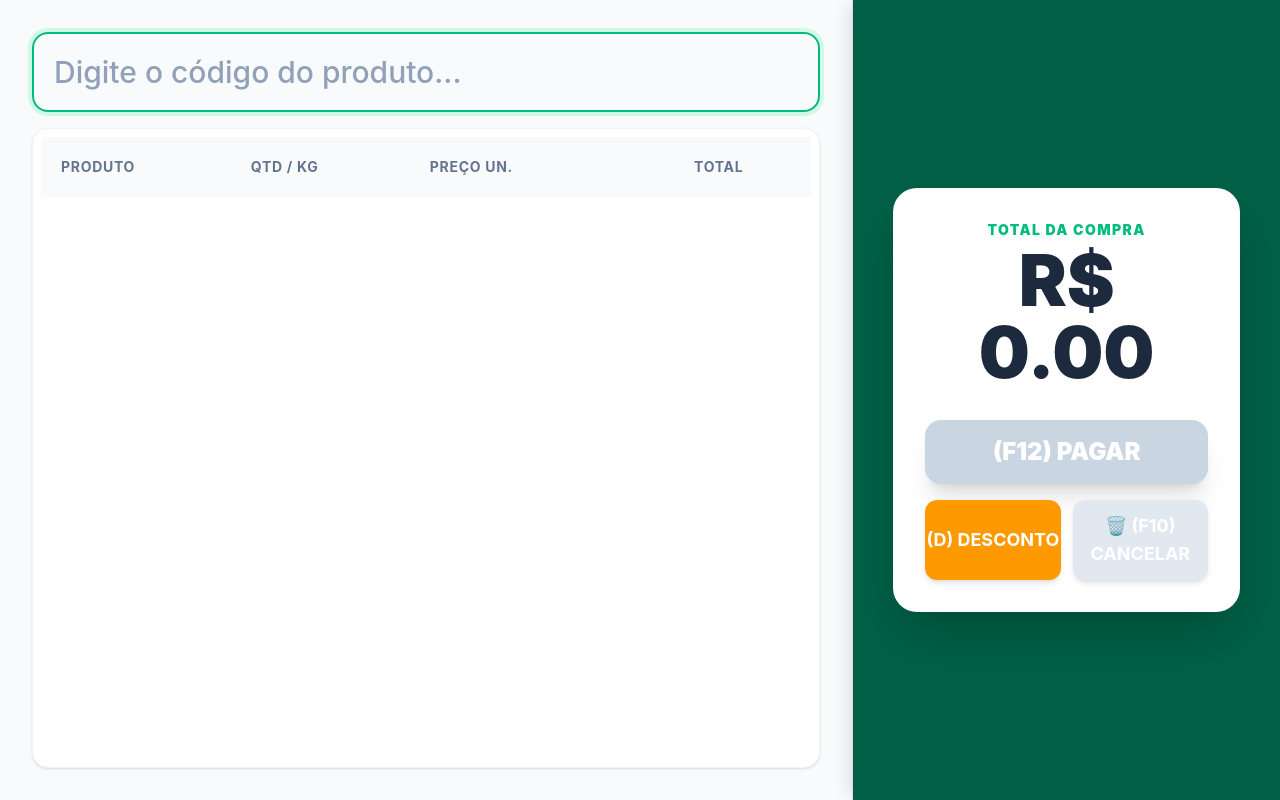
Scenario: Caixa Page › deve realizar fluxo de pagamento com troco
// Adiciona produto
In the field with placeholder "Digite o código do produto...": (426, 72) x1=32 y1=32 x2=820 y2=112, type "123"
Then press Enter
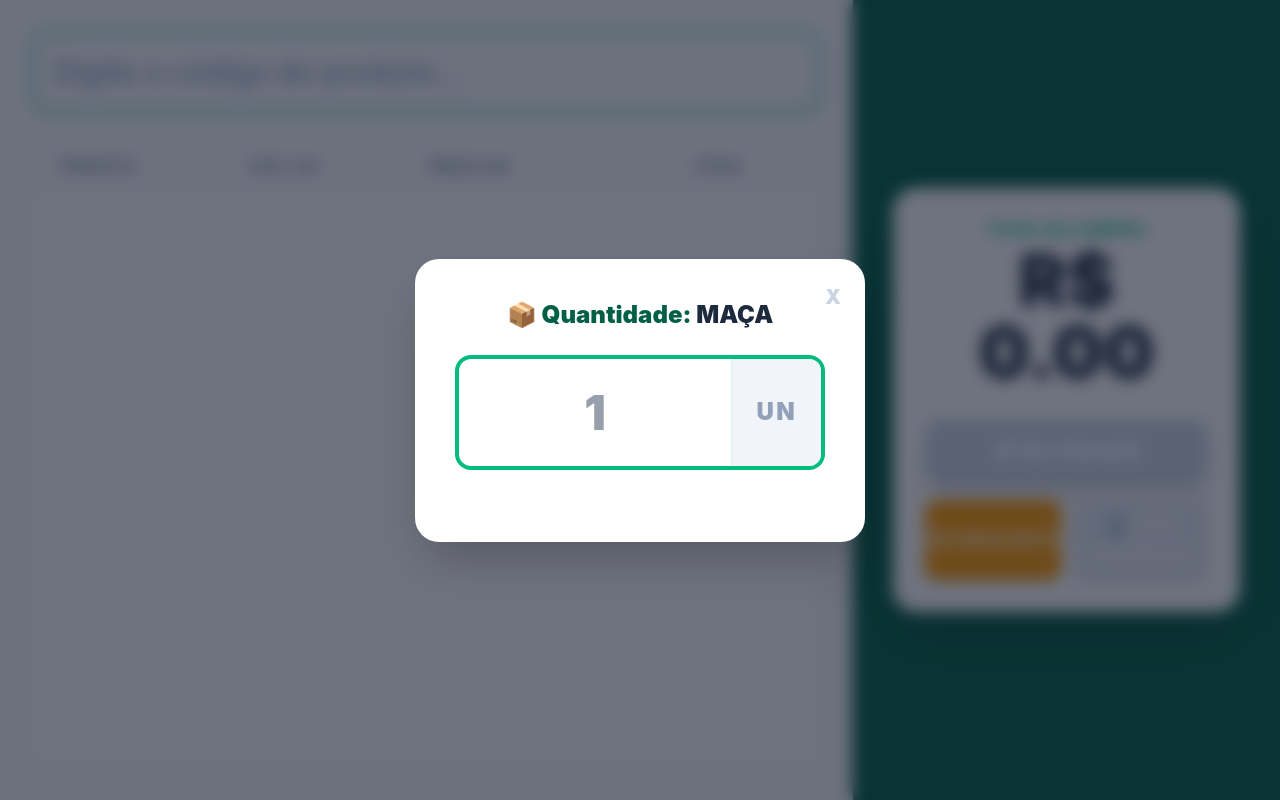
Type keys "1{Enter}"
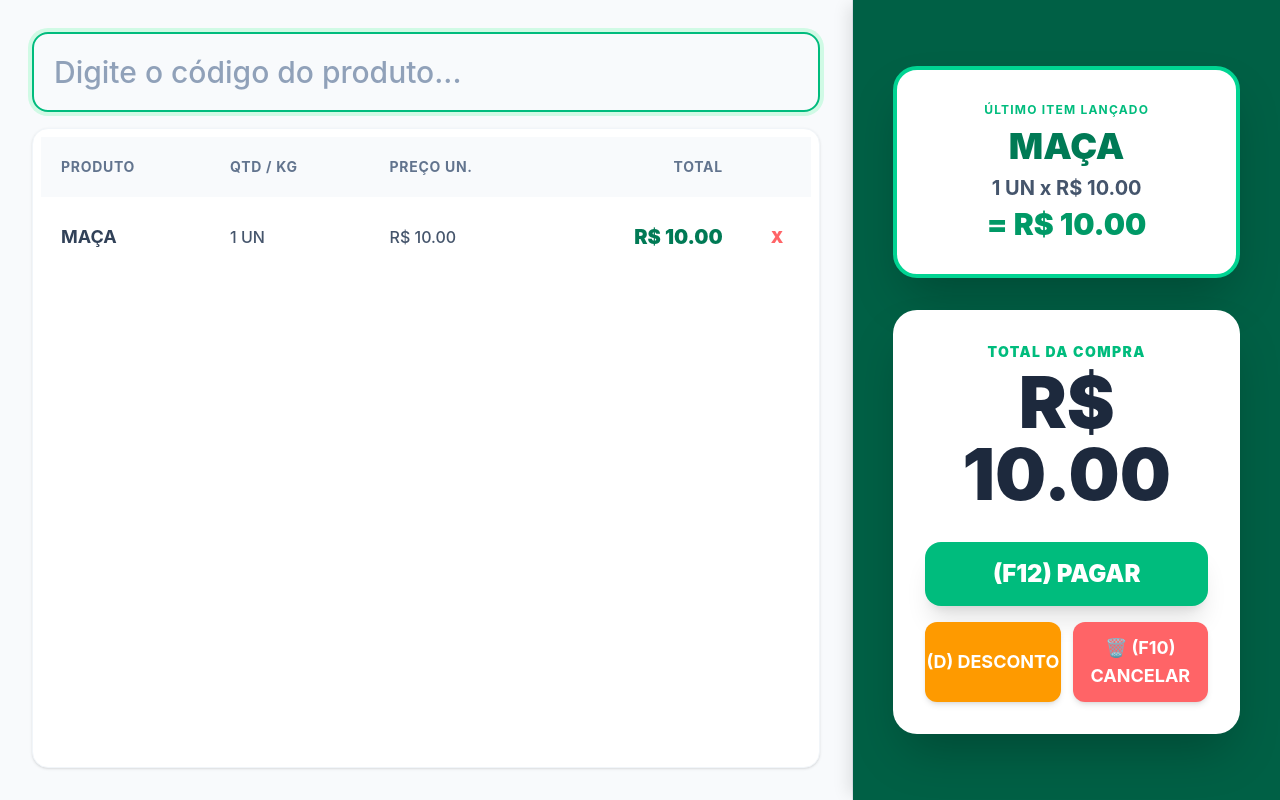
// Pagar - Clica no botão (F12) PAGAR
Click the button "(F12) PAGAR": (1067, 574) x1=925 y1=542 x2=1208 y2=606
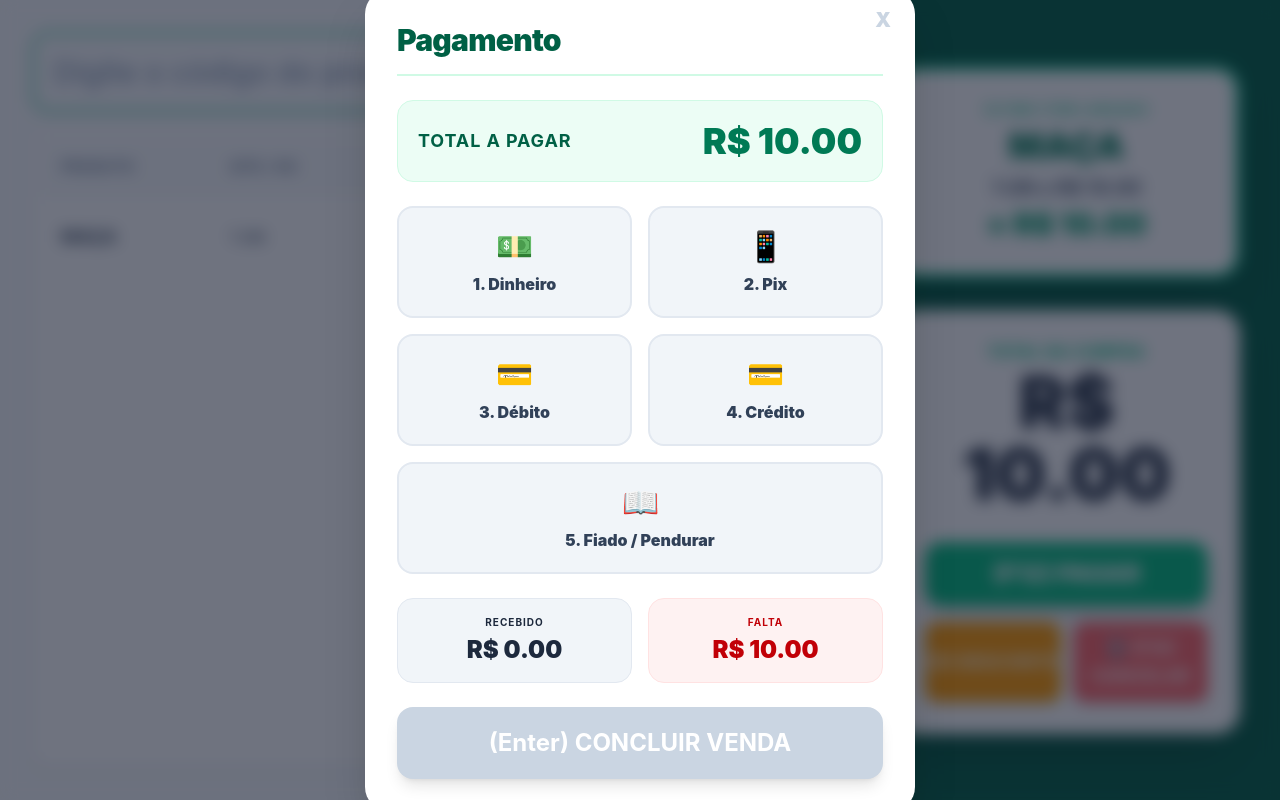
Expected: the button "(Enter) CONCLUIR VENDA" is shown, x1=397 y1=706 x2=883 y2=778
// Seleciona Dinheiro (1)
Type keys "1"
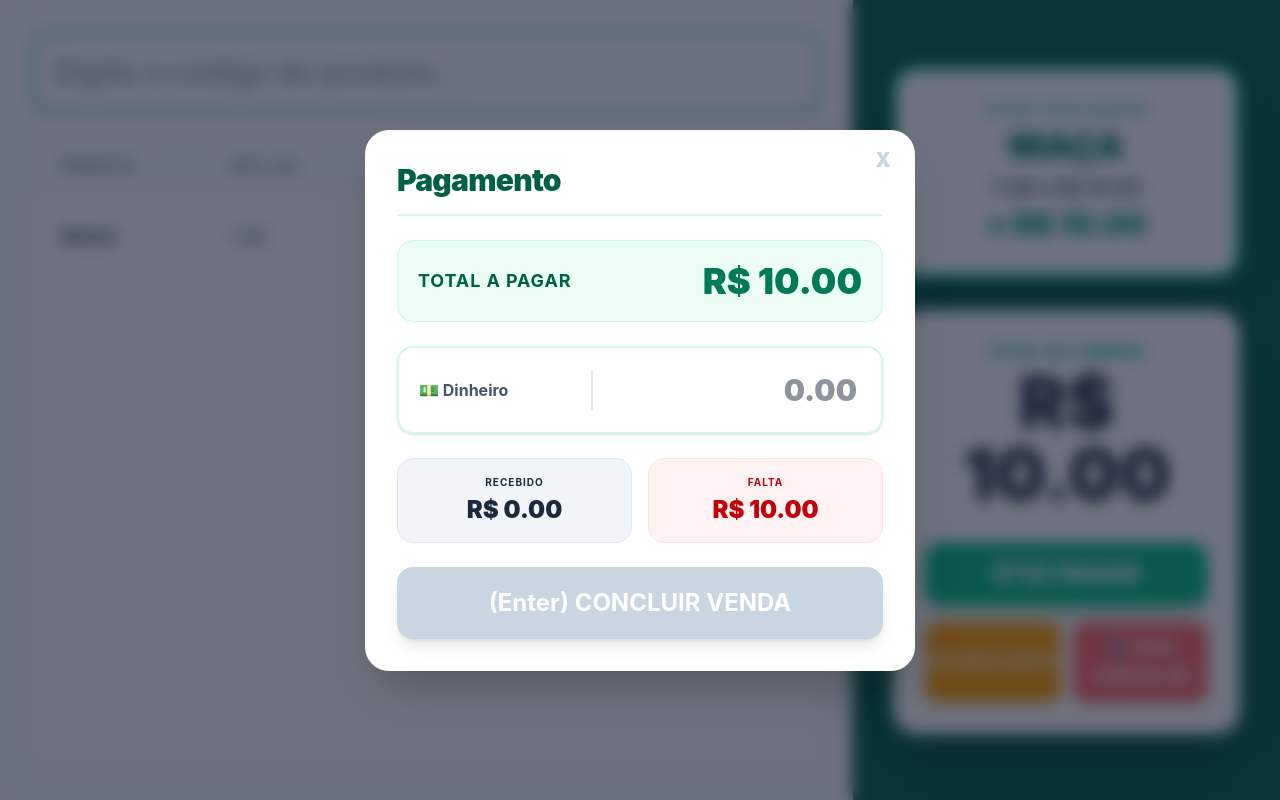
In the field with placeholder "0.00": (737, 390) x1=601 y1=356 x2=873 y2=424, type "20"
Then press Enter
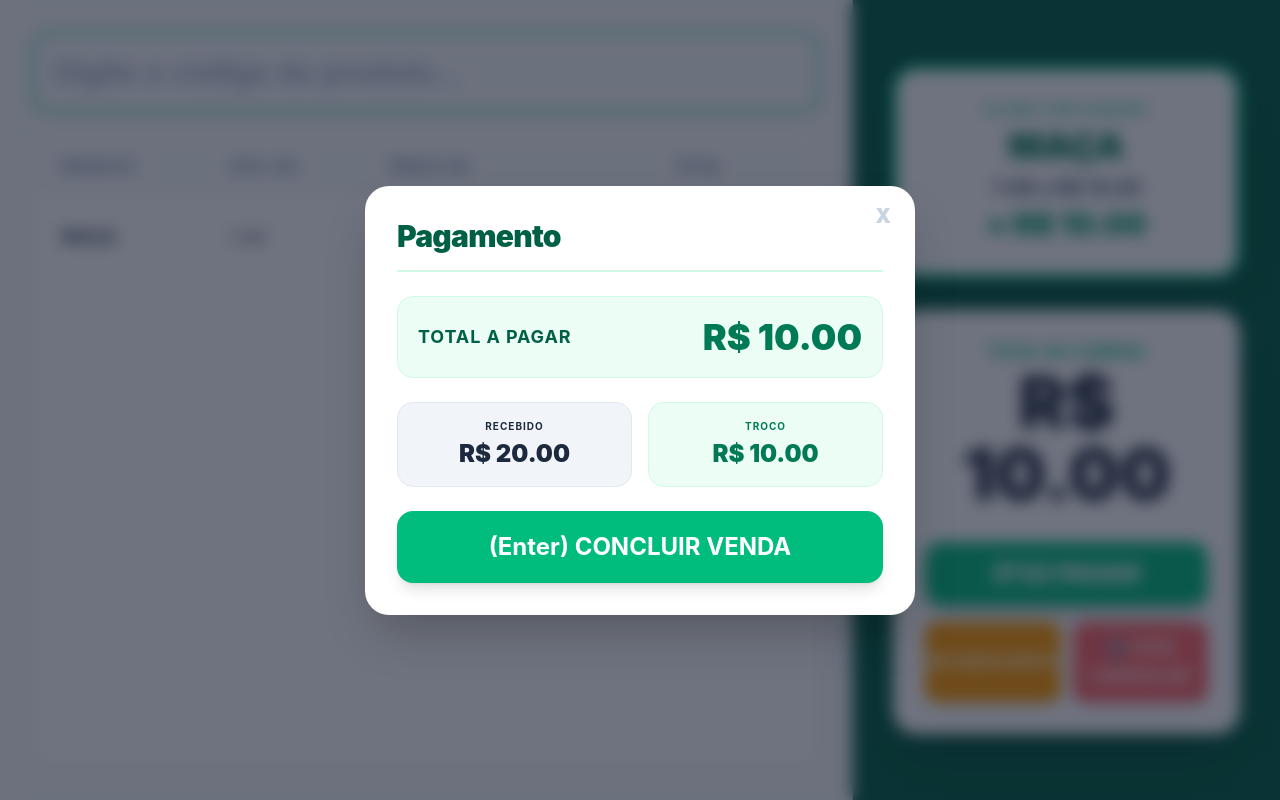
Expected: the text "Troco" is shown, x1=745 y1=420 x2=786 y2=432
// Finaliza (Clica no botão CONCLUIR VENDA)
Click the button "(Enter) CONCLUIR VENDA": (640, 546) x1=397 y1=510 x2=883 y2=582
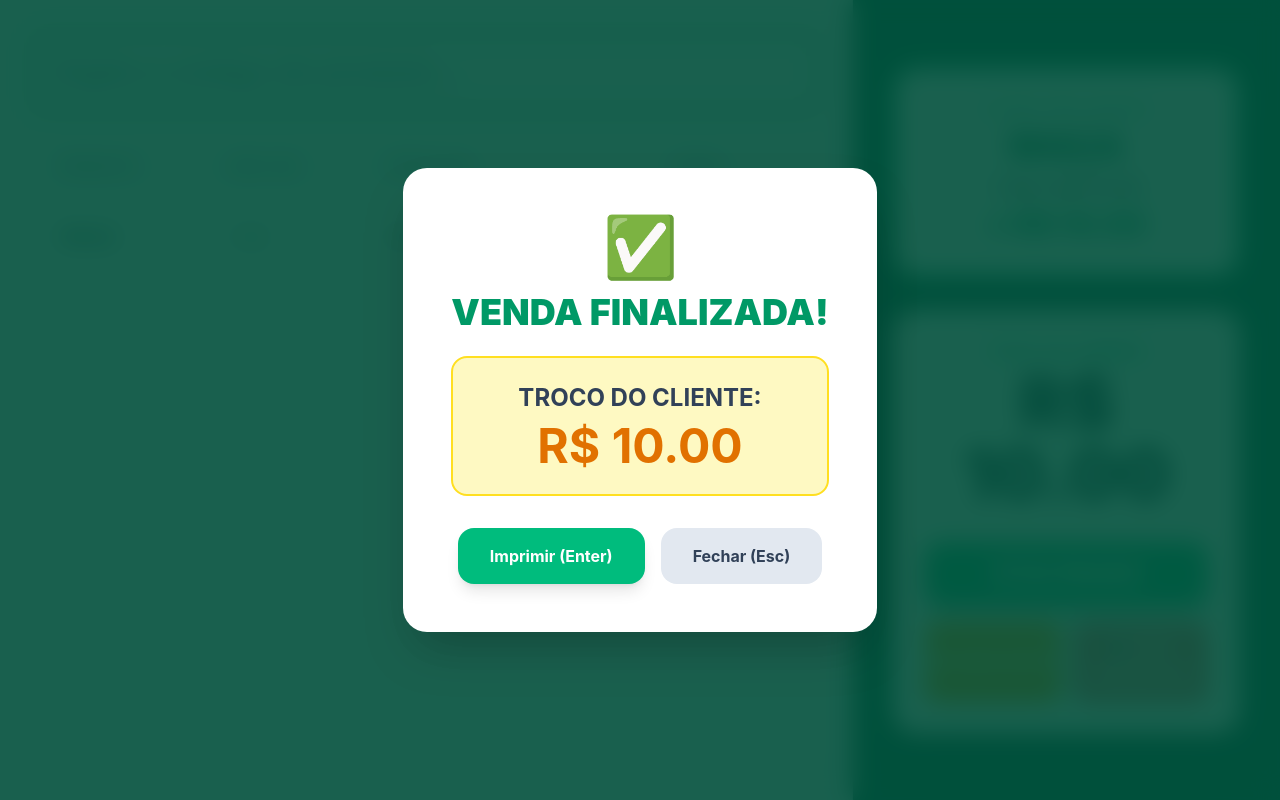
Expected: the heading "VENDA FINALIZADA!" is shown, x1=451 y1=292 x2=829 y2=332
